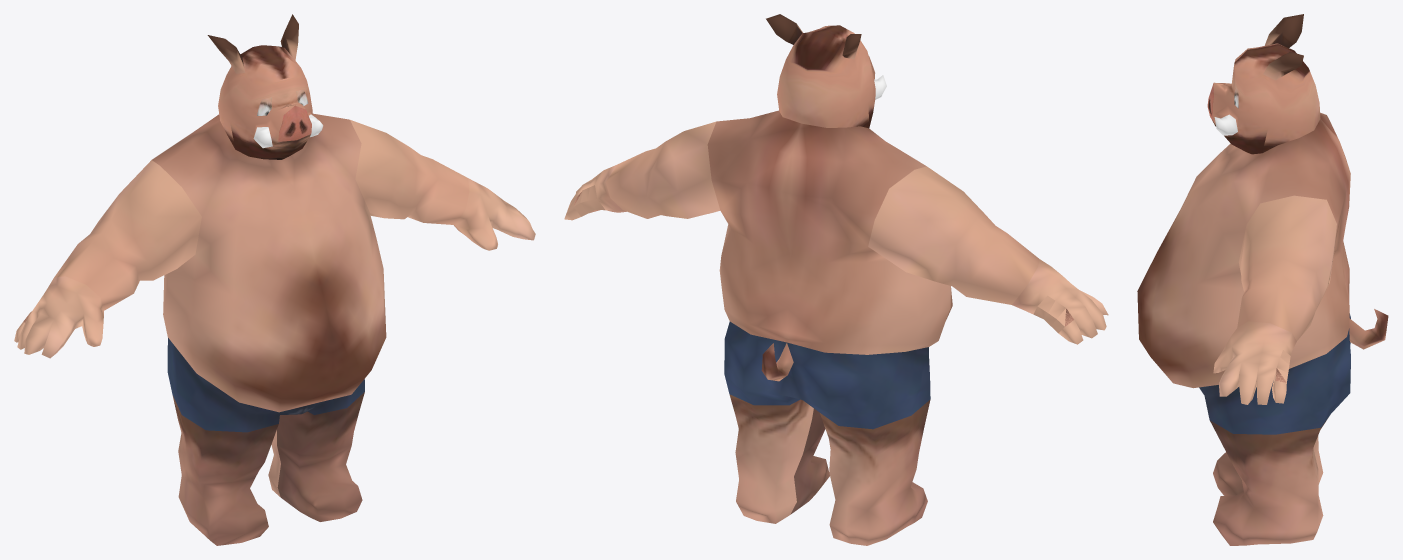
The model's file is boar_pig.glb.
The picture shows the model from 3 angles, left to right: view 1: azimuth 30°, elevation 25°; view 2: azimuth 150°, elevation 25°; view 3: azimuth 270°, elevation 25°; orthographic projection. The views are drawn at different scales.
Parts seen in each view (by area): view 1: body; view 2: body; view 3: body.
Boxes of the visible parts, left/top/right/bottom form: body: left=14, top=14, right=535, bottom=545; body: left=564, top=14, right=1108, bottom=545; body: left=1137, top=14, right=1388, bottom=545.
Bounding box in the file's own units: 3.4 × 3.05 × 1.46.
Materials: 1 (1 with a texture image).
